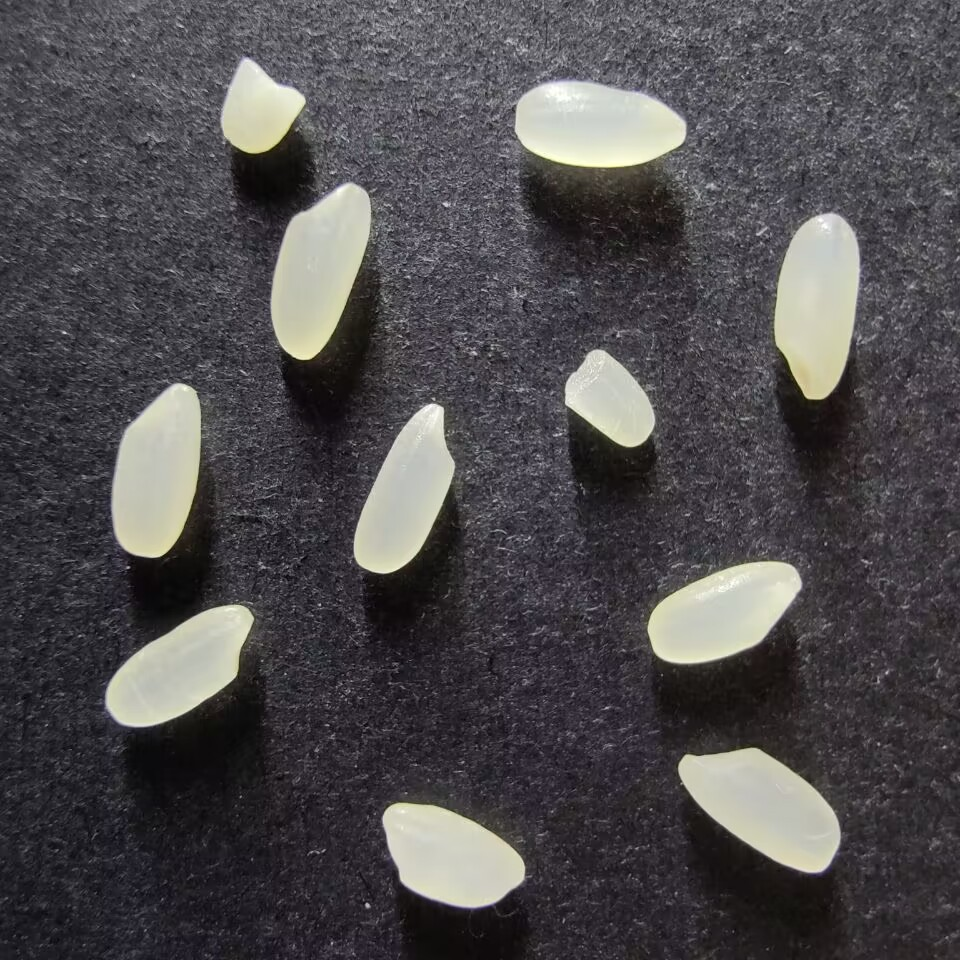broken: (562, 348, 656, 449), (217, 56, 308, 155)
rice: (676, 745, 841, 875), (103, 602, 253, 728), (268, 181, 372, 361), (351, 401, 456, 574), (771, 212, 861, 401), (109, 380, 202, 559), (645, 559, 801, 665), (513, 79, 688, 170), (380, 801, 525, 909)
